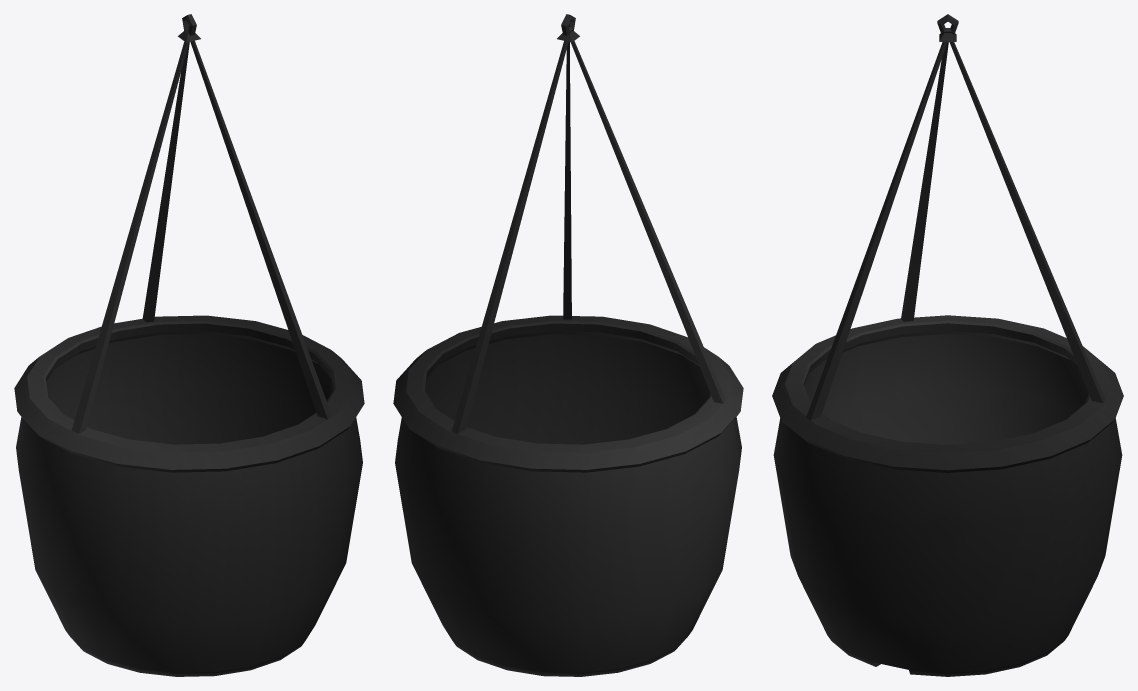
Rendered from HangingFlowerPotEmpty.fbx.
The picture shows the model from 3 angles, left to right: view 1: azimuth 30°, elevation 25°; view 2: azimuth 150°, elevation 25°; view 3: azimuth 270°, elevation 25°; orthographic projection.
Visible parts, largest first — view 1: HangingFlowerPotEmpty; view 2: HangingFlowerPotEmpty; view 3: HangingFlowerPotEmpty.
Boxes of the visible parts, x1,y1,x2,y2 form: HangingFlowerPotEmpty: (14, 14, 364, 676); HangingFlowerPotEmpty: (393, 14, 743, 676); HangingFlowerPotEmpty: (772, 14, 1123, 676).
Size of the model in its own units: 0.7841 by 1.5 by 0.7841.
